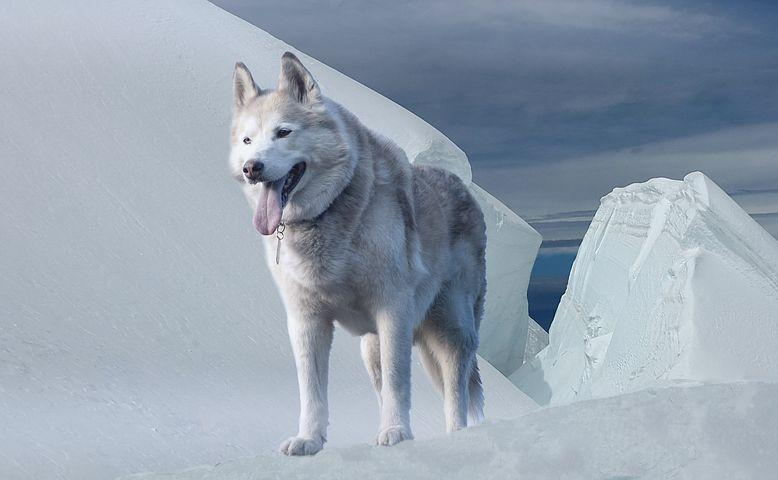Wolf: (222, 48, 500, 462)
